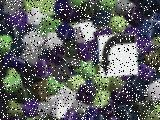Left: (98, 34, 138, 78)
